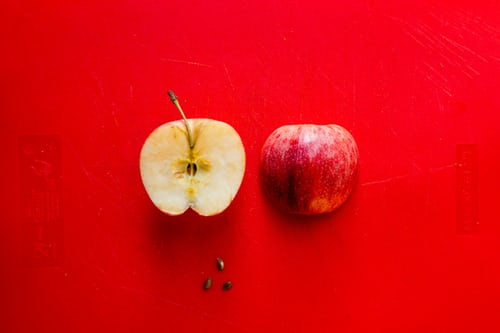apple: (138, 88, 251, 218), (254, 120, 365, 216)
